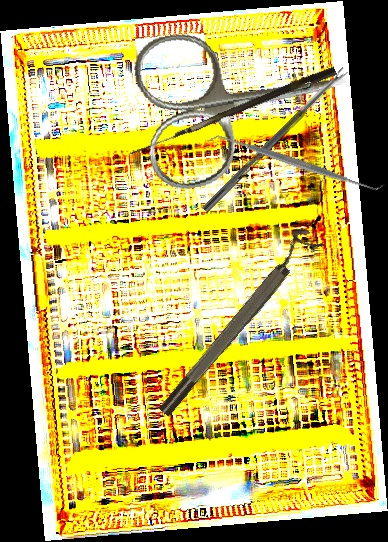Fixation Ring: (147, 223, 325, 421)
Hook Surgical: (129, 62, 338, 165)
Iris Scissors: (128, 6, 362, 195)
Spatula Surgical: (205, 123, 386, 203)
Surgical Spoon: (201, 66, 350, 215)
